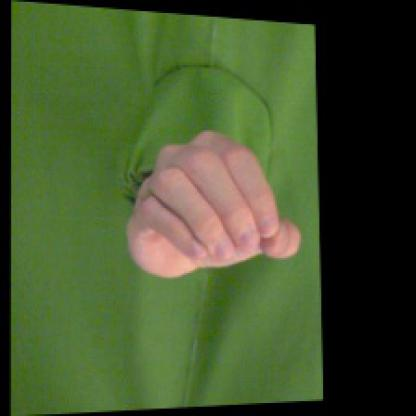Hand: (127, 128, 302, 277)
